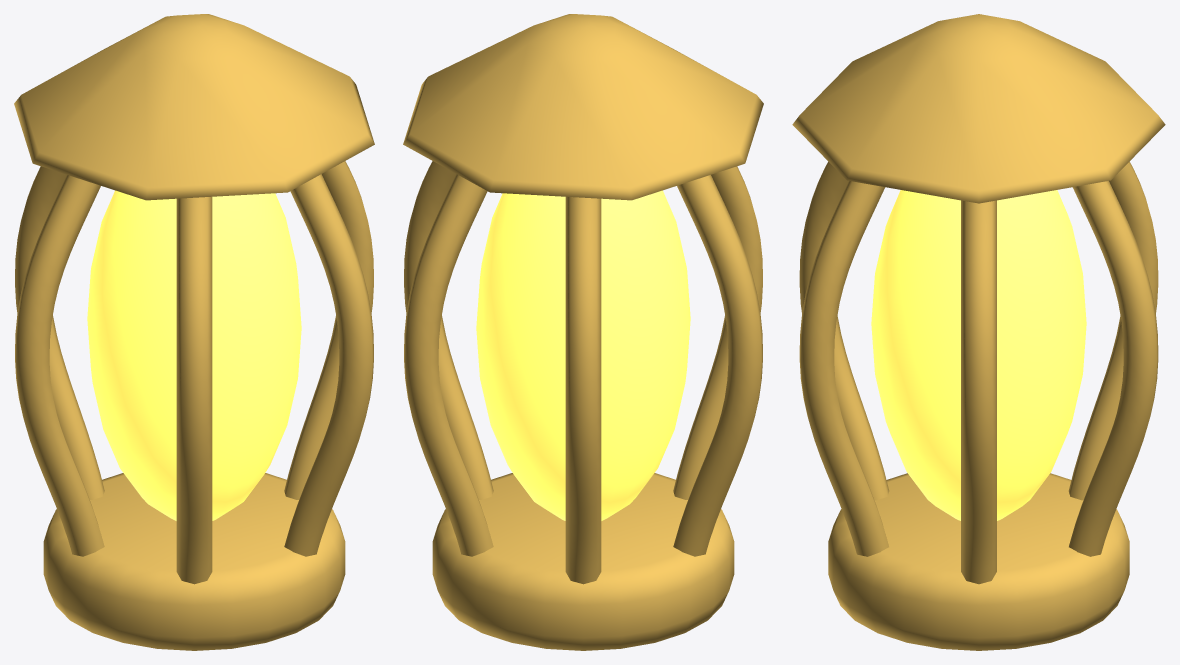
Rendered from lantern.glb.
3 views of the same model, side by side, from view 1: azimuth 30°, elevation 25°; view 2: azimuth 150°, elevation 25°; view 3: azimuth 270°, elevation 25° (orthographic).
Parts seen in each view (by area): view 1: Cage, Amber glass; view 2: Cage, Amber glass; view 3: Cage, Amber glass.
Part boxes in pixels (x1,y1,x2,y2): Cage: (14,14,374,650); Amber glass: (87,190,301,520); Cage: (403,14,763,650); Amber glass: (476,190,690,520); Cage: (792,14,1165,650); Amber glass: (871,190,1086,520).
Size of the model in its own units: 0.5716 by 0.88 by 0.5201.
